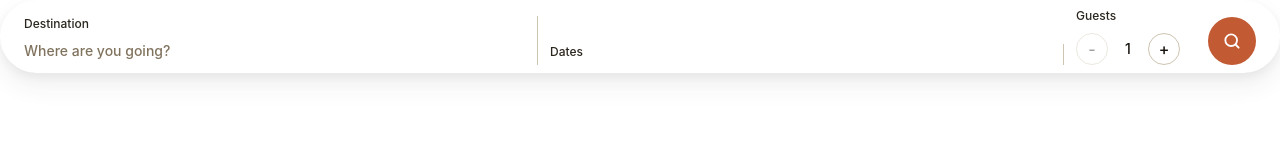
Test: SearchBar › guests: plus button increases guests count
Click the button with test id "guests-increase": (1164, 49) [1148,33,1180,65]
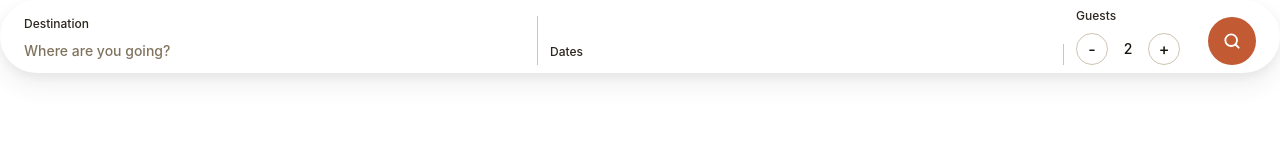
Expected: the text with test id "guests-value" reads "2", [1124,40,1132,57]
